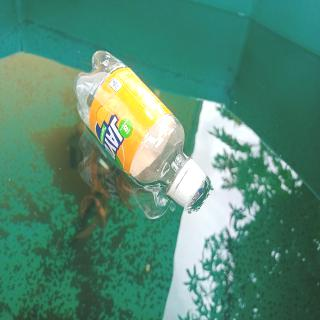bottle: (74, 49, 206, 210)
